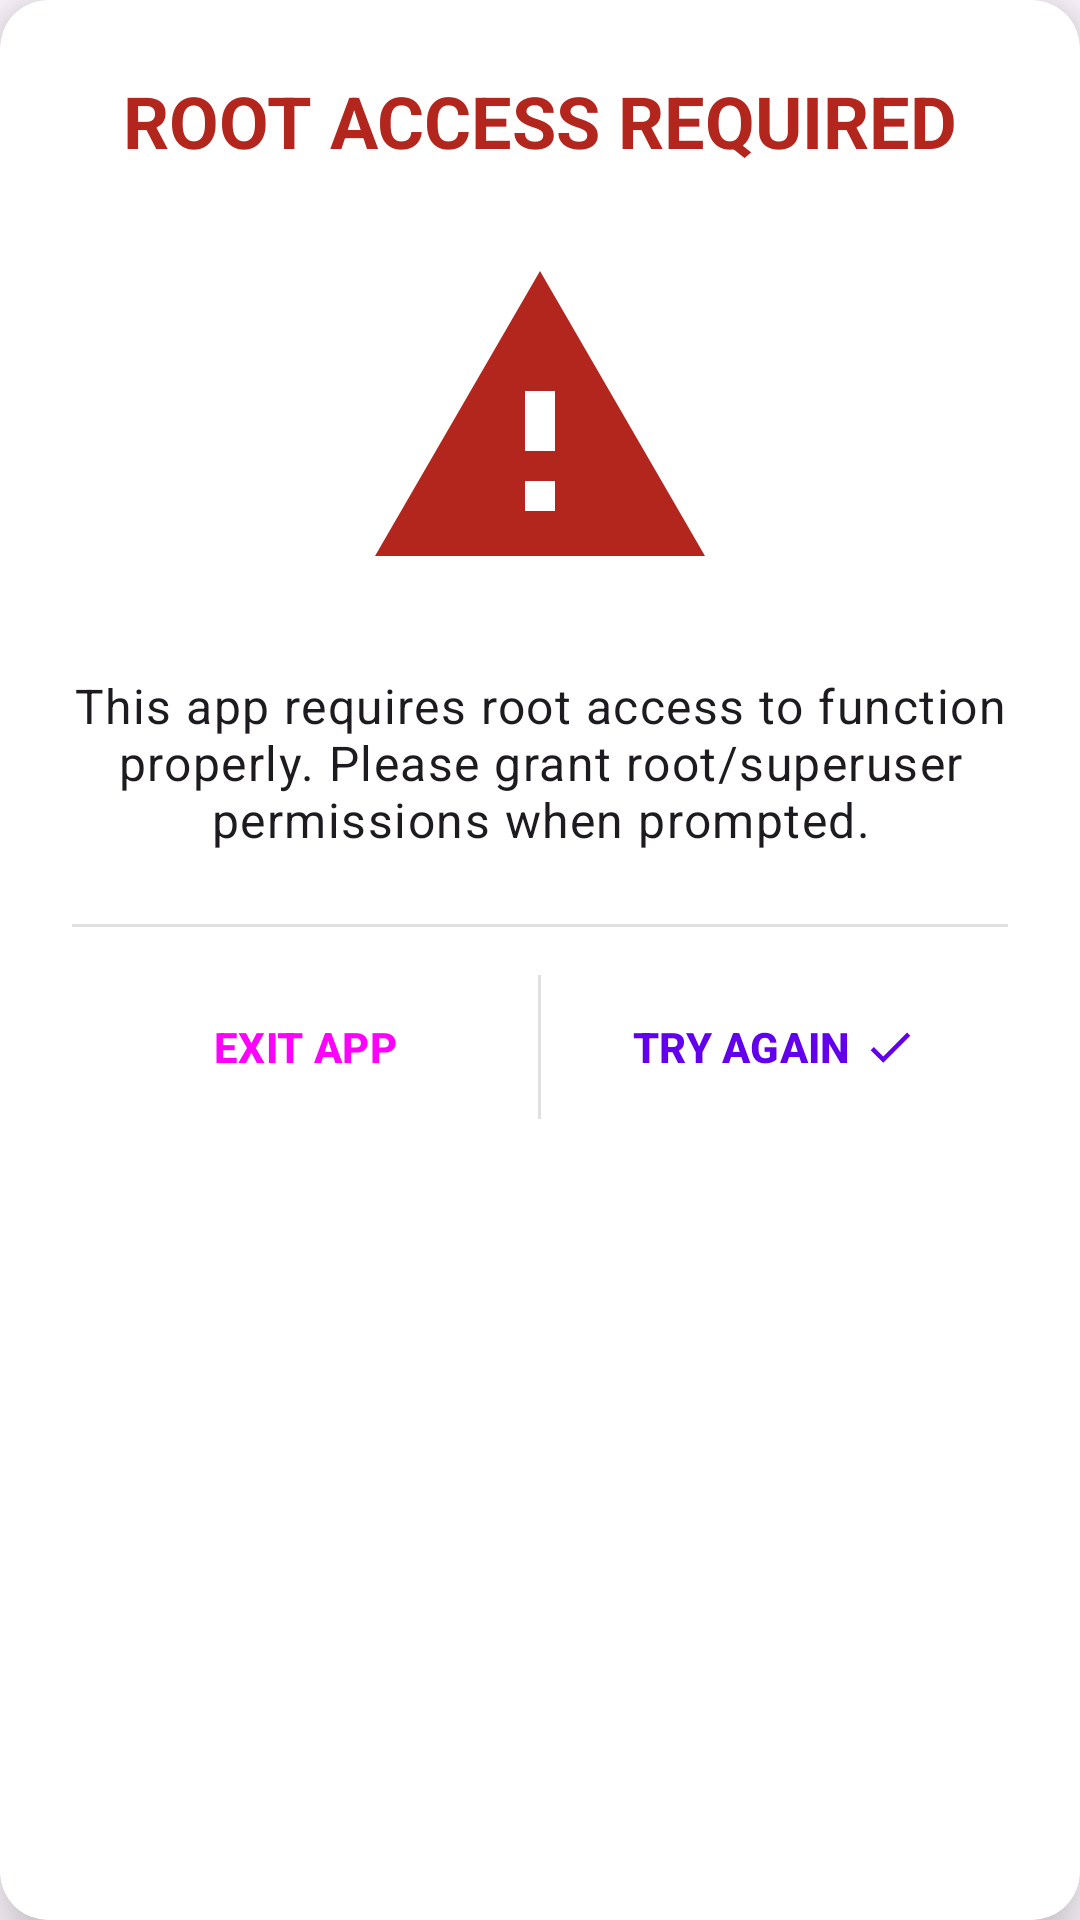

Where icons sit on this 1080w x 1920h app screen, as (x1, y1, x2, y2):
Warning icon: (375, 271, 705, 556)
